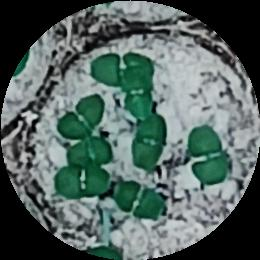Basil: (188, 125, 228, 188), (90, 51, 158, 85), (113, 179, 165, 218), (53, 165, 110, 199), (134, 113, 165, 172), (63, 94, 106, 134), (68, 138, 115, 169), (126, 77, 155, 117)
